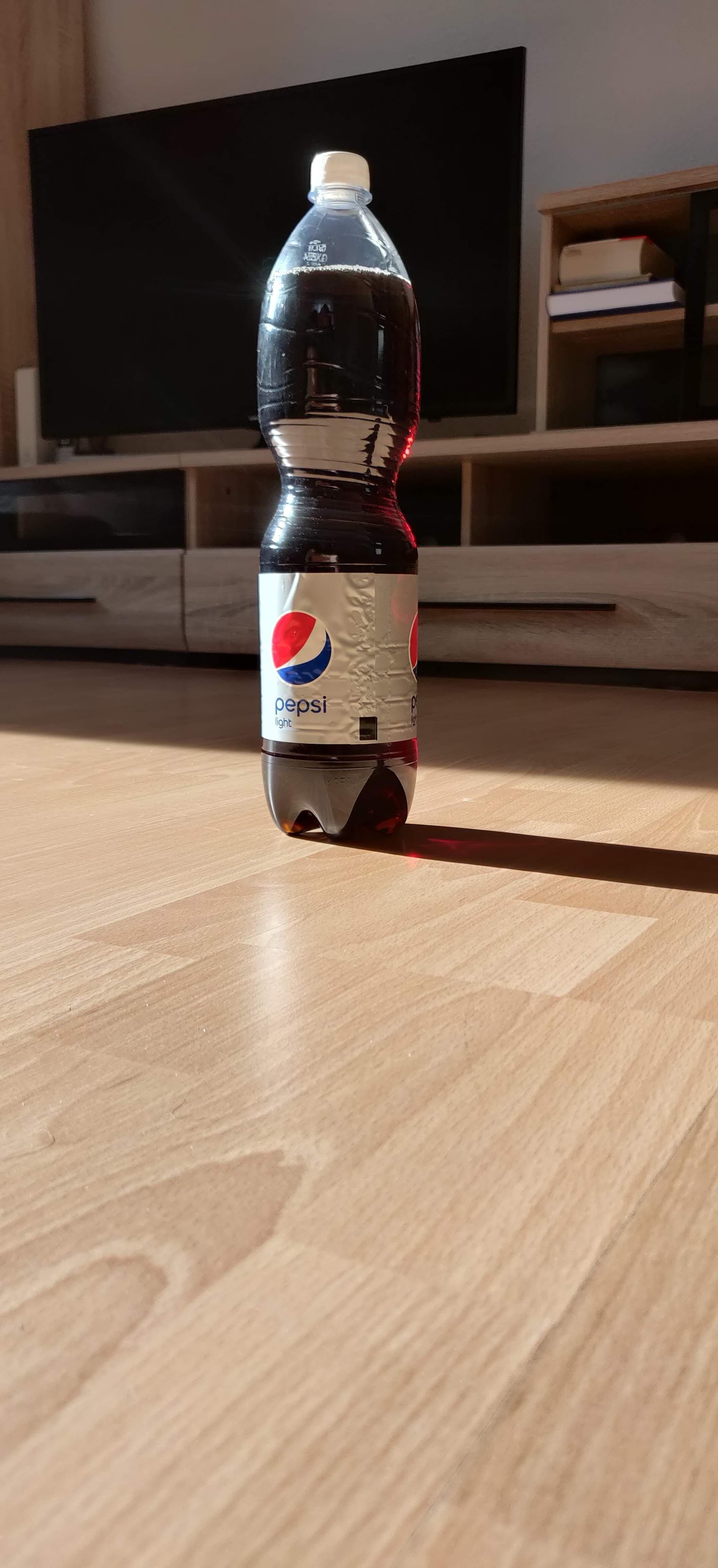bottle-plastic: (254, 145, 425, 839)
